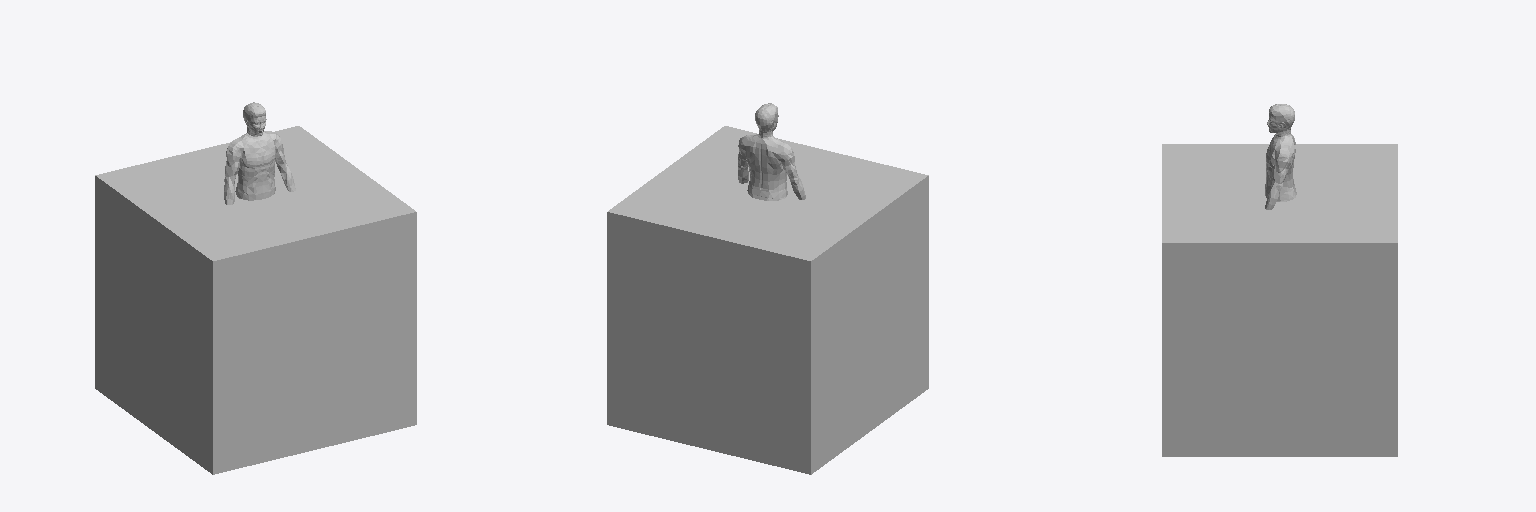
File: ubbu.obj
3 renders of one model, left to right at view 1: azimuth 30°, elevation 25°; view 2: azimuth 150°, elevation 25°; view 3: azimuth 270°, elevation 25°, orthographic.
Visible parts, largest first — view 1: Cube, casual02_m_highpoly_Untitled; view 2: Cube, casual02_m_highpoly_Untitled; view 3: Cube, casual02_m_highpoly_Untitled.
Part boxes in pixels (left/top/right/bottom): Cube: left=95, top=126, right=416, bottom=474; casual02_m_highpoly_Untitled: left=224, top=102, right=295, bottom=204; Cube: left=607, top=126, right=928, bottom=474; casual02_m_highpoly_Untitled: left=738, top=103, right=805, bottom=200; Cube: left=1162, top=144, right=1397, bottom=456; casual02_m_highpoly_Untitled: left=1265, top=104, right=1296, bottom=209.
Size of the model in its own units: 2 by 2.83 by 2.